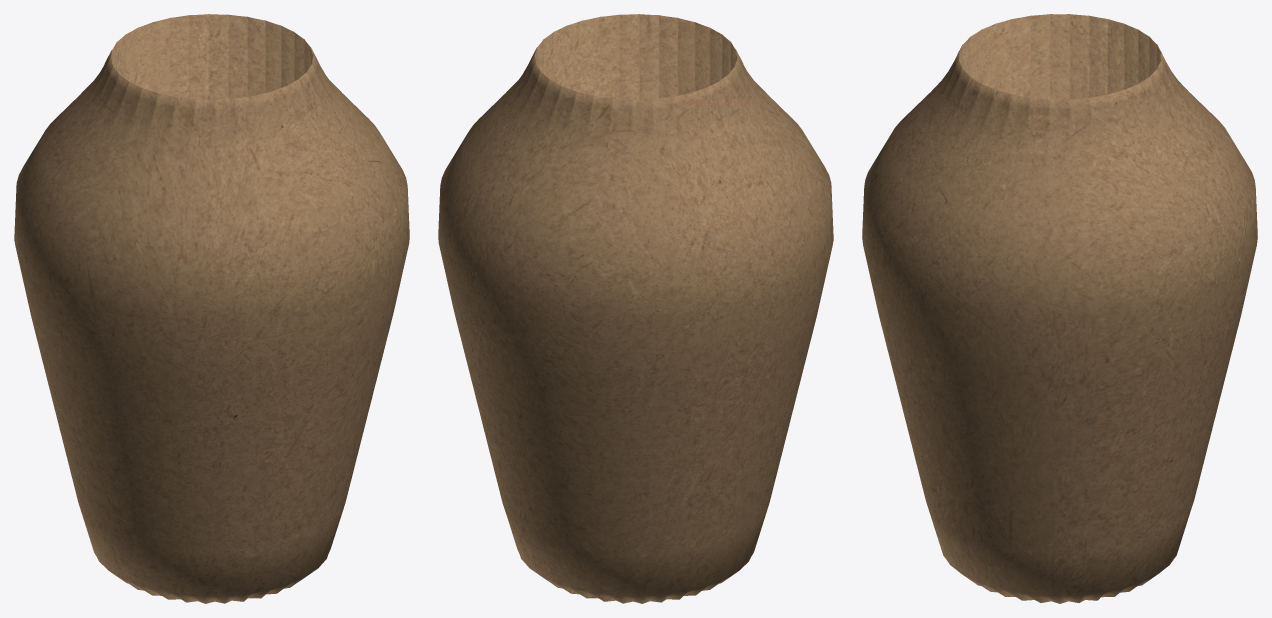
Rendered from blenderlabsamh.glb.
3 renders of one model, left to right at view 1: azimuth 30°, elevation 25°; view 2: azimuth 150°, elevation 25°; view 3: azimuth 270°, elevation 25°, orthographic.
Parts seen in each view (by area): view 1: Cylinder; view 2: Cylinder; view 3: Cylinder.
Part boxes in pixels (x1,y1,x2,y2): Cylinder: (14,14,409,603); Cylinder: (438,14,833,603); Cylinder: (862,14,1257,603).
Bounding box in the file's own units: 1.84 × 2.65 × 1.84.
Materials: 1 (1 with a texture image).
